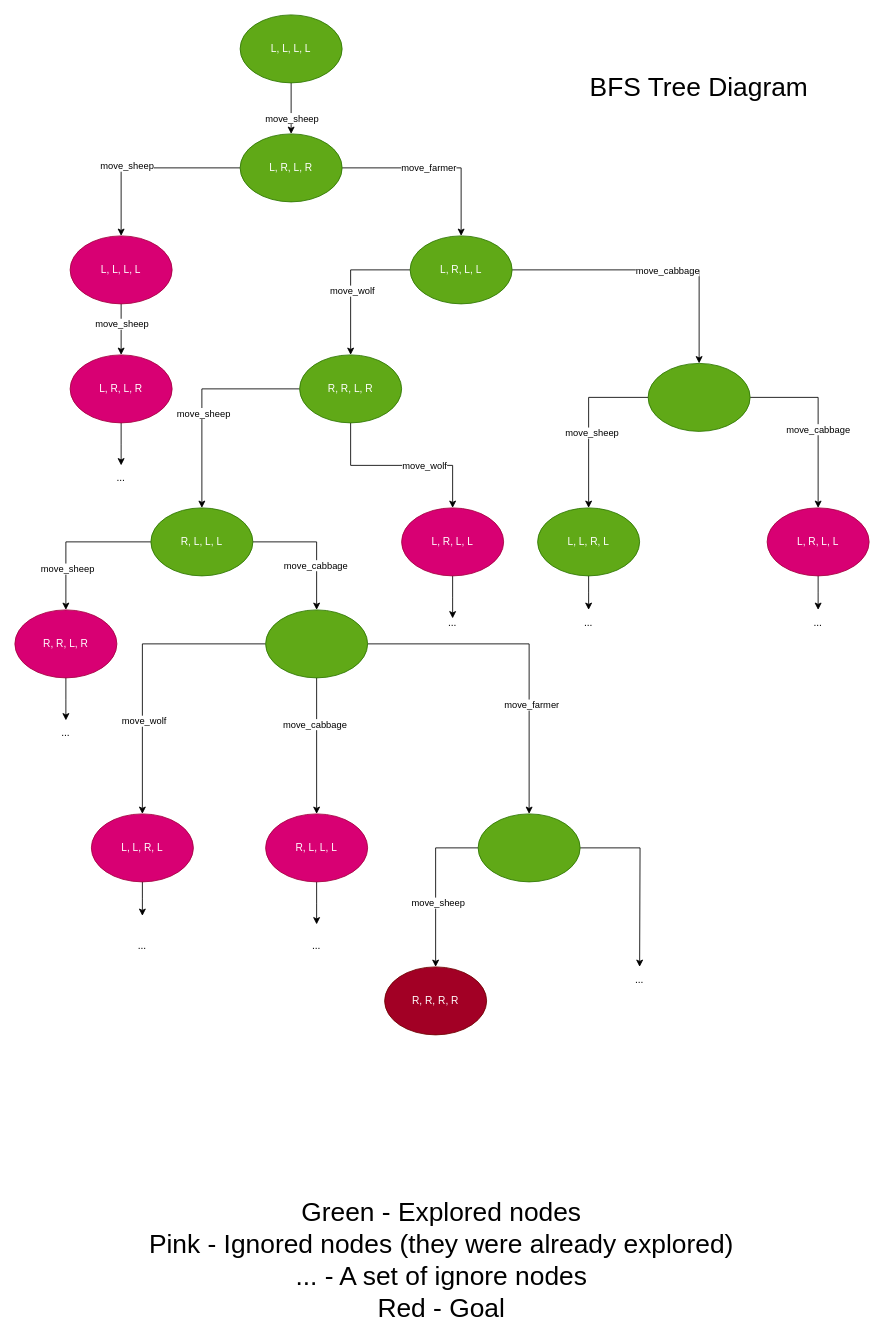
The diagram is 884 pixels wide and 1338 high, and some of its shapes have lost their labels. The box of each missing label's shape, as (x1, y1, x2, y2) in pixels:
L, R, R, R: (647, 363, 750, 431)
R, L, R, L: (477, 813, 580, 882)
R, L, R, R: (265, 609, 368, 678)
